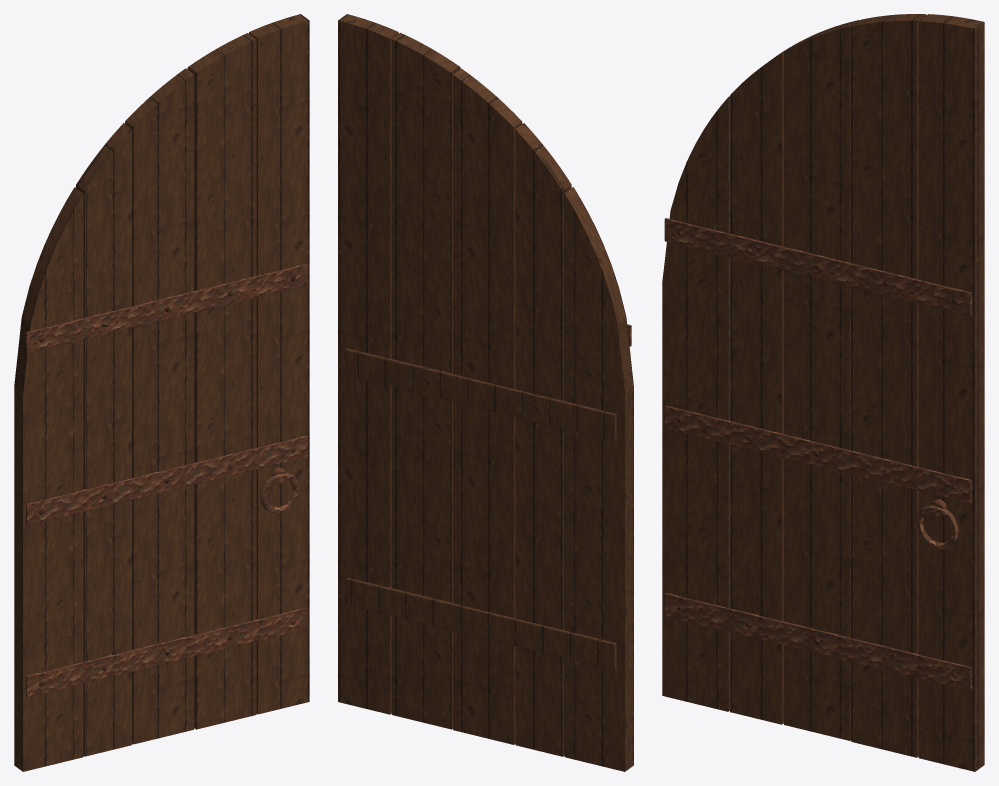
Rendered from gate_leaf__cut_stone.glb.
3 renders of one model, left to right at view 1: azimuth 30°, elevation 25°; view 2: azimuth 150°, elevation 25°; view 3: azimuth 330°, elevation 25°, orthographic. The views are drawn at different scales.
Parts seen in each view (by area): view 1: model; view 2: model; view 3: model.
Boxes of the visible parts, x1,y1,x2,y2 form: model: [14, 14, 309, 771]; model: [338, 14, 633, 771]; model: [662, 14, 984, 771].
Size of the model in its own units: 1.57 by 3.57 by 0.1299.
3 materials, 3 textured.
